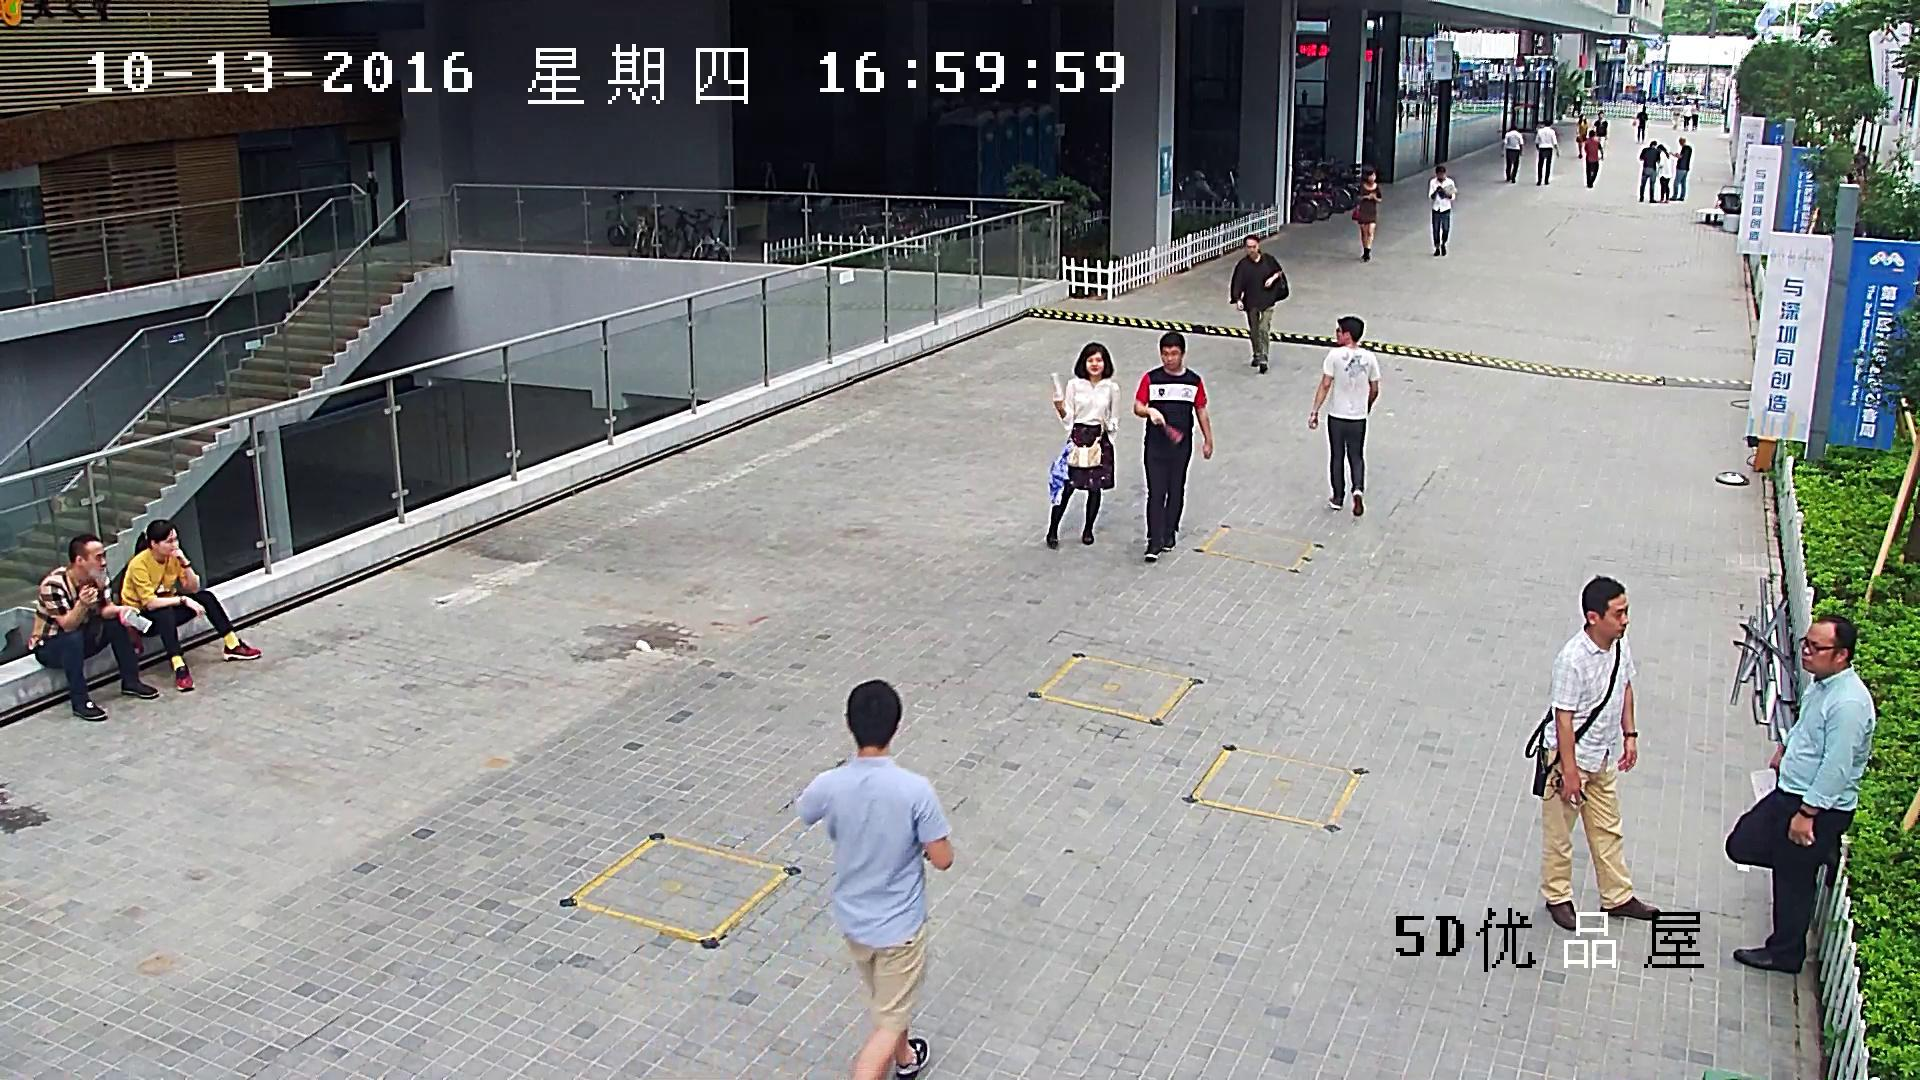person: (797, 678, 955, 1080), (1725, 616, 1876, 971), (1524, 576, 1659, 930), (119, 519, 262, 691), (26, 533, 157, 721), (1134, 331, 1212, 558), (1045, 342, 1119, 548), (1308, 315, 1379, 516), (1229, 234, 1288, 372), (1351, 168, 1381, 262), (1428, 166, 1455, 256), (1534, 121, 1558, 186), (1639, 141, 1660, 203), (1669, 137, 1691, 199), (1501, 126, 1523, 183), (1584, 130, 1603, 188), (1657, 144, 1672, 203), (1591, 111, 1607, 158), (1575, 114, 1588, 158), (1632, 105, 1647, 144), (1668, 97, 1682, 130), (1681, 99, 1696, 131), (1854, 145, 1869, 175), (1571, 89, 1582, 116), (1692, 98, 1698, 131), (1398, 99, 1403, 133)
